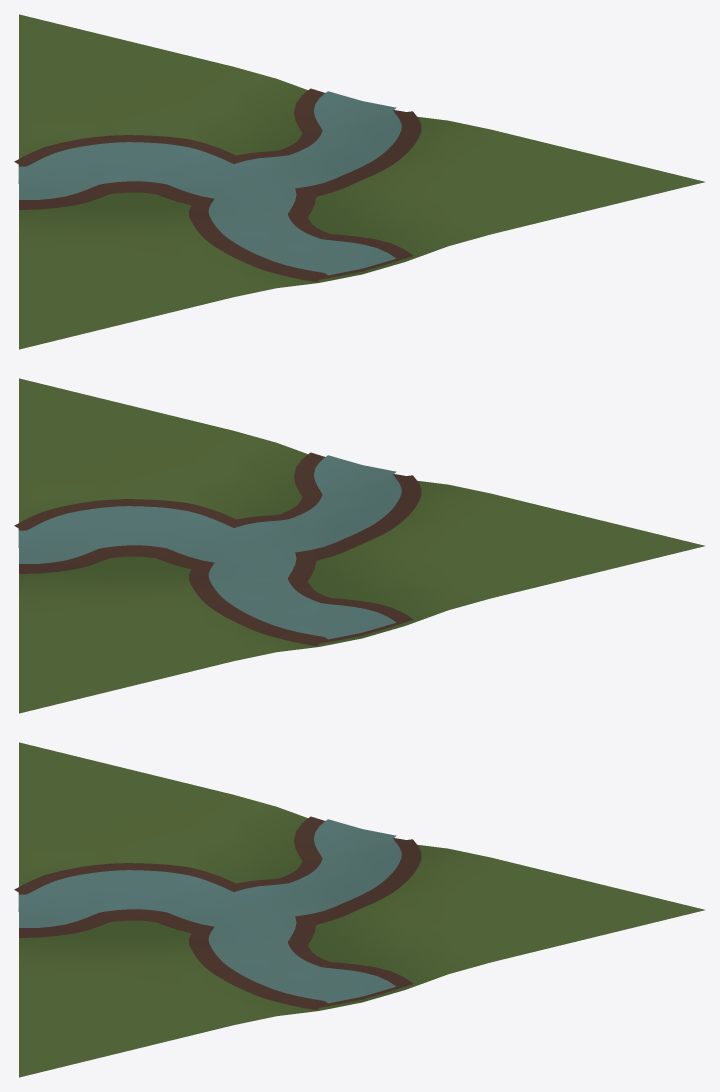
The model's file is MODULE_RIVER_FORK.fbx.
The picture shows the model from 3 angles, top to bottom: view 1: azimuth 30°, elevation 25°; view 2: azimuth 150°, elevation 25°; view 3: azimuth 270°, elevation 25°; orthographic projection.
Parts seen in each view (by area): view 1: MODULE_RIVER_FORK__export, MODULE_RIVER_FORK_DECOR__export; view 2: MODULE_RIVER_FORK__export, MODULE_RIVER_FORK_DECOR__export; view 3: MODULE_RIVER_FORK__export, MODULE_RIVER_FORK_DECOR__export.
Boxes of the visible parts, x1,y1,x2,y2 form: MODULE_RIVER_FORK__export: (19, 14, 704, 349); MODULE_RIVER_FORK_DECOR__export: (14, 88, 421, 282); MODULE_RIVER_FORK__export: (19, 378, 704, 713); MODULE_RIVER_FORK_DECOR__export: (14, 452, 421, 646); MODULE_RIVER_FORK__export: (19, 742, 704, 1077); MODULE_RIVER_FORK_DECOR__export: (14, 816, 421, 1010).
Size of the model in its own units: 100 by 1.62 by 87.22.
